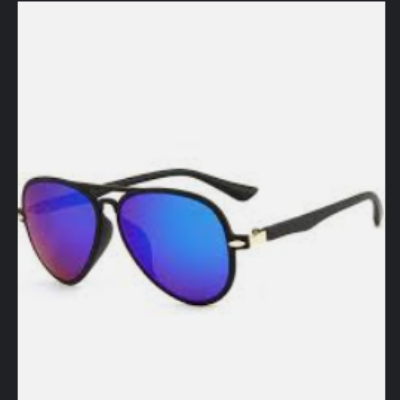glasses: (22, 163, 384, 310)
